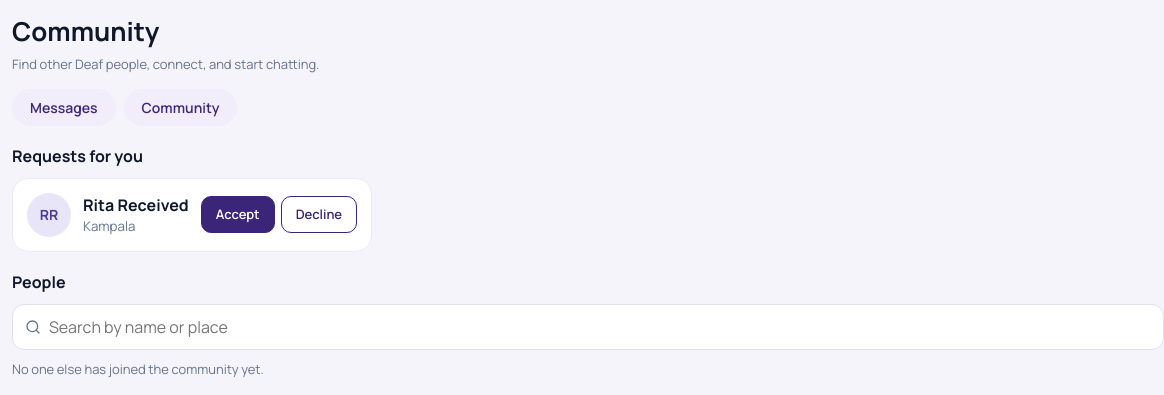
Scenario: CommunityPage › says when nobody matches
Check: the text "No one else has joined the community yet." is shown, box [12,360,264,378]
In the search field named "Search people": point(600, 326) [49,304,1151,348], type "zzz"
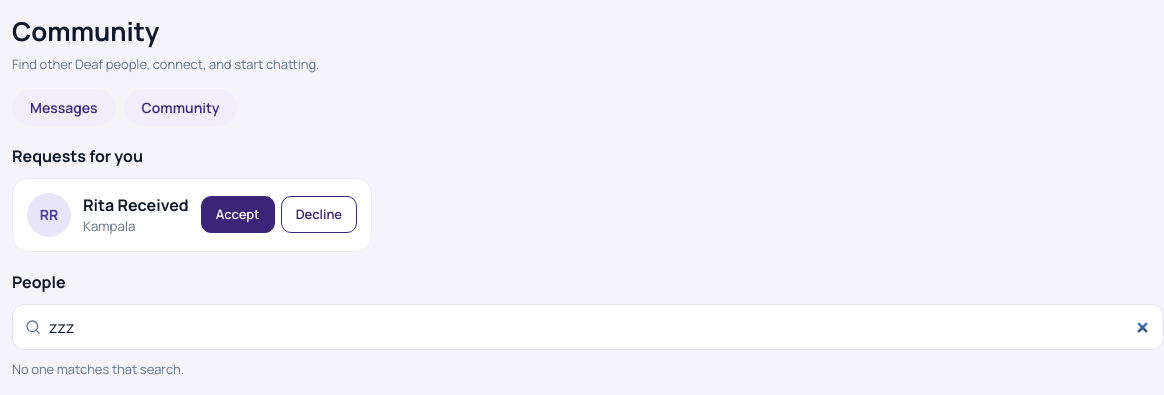
Check: the text "No one matches that search." is shown, box [12,360,184,378]
